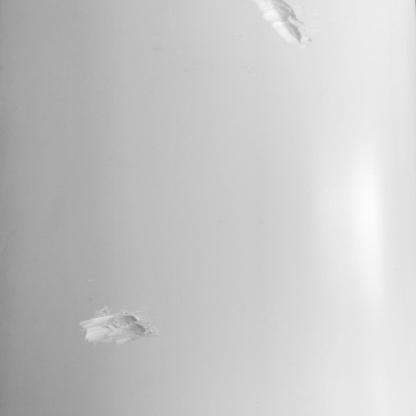sunshang: (81, 302, 156, 346), (249, 1, 313, 49)
